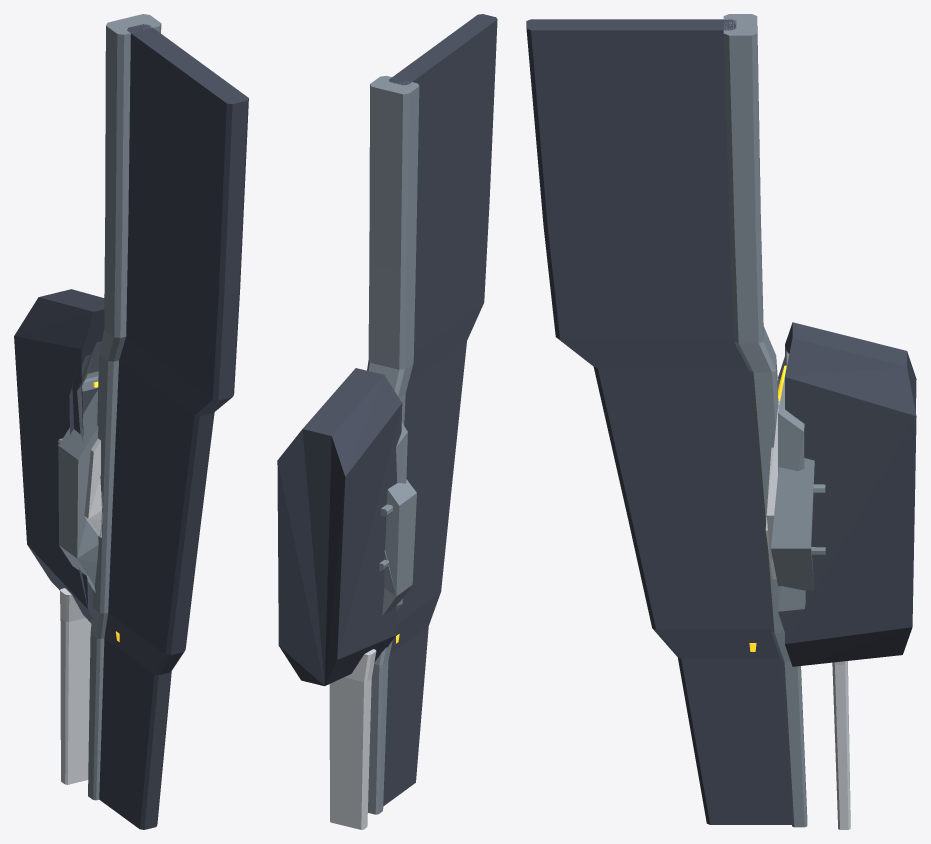
Rendered from BasicArmW_Left_Skel.glb.
3 renders of one model, left to right at view 1: azimuth 30°, elevation 25°; view 2: azimuth 150°, elevation 25°; view 3: azimuth 270°, elevation 25°, orthographic. The views are drawn at different scales.
Visible parts, largest first — view 1: BasicArmW_Left_Skel_part00, BasicArmW_Left_Skel_part01, BasicArmW_Left_Skel_part02; view 2: BasicArmW_Left_Skel_part00, BasicArmW_Left_Skel_part01, BasicArmW_Left_Skel_part02; view 3: BasicArmW_Left_Skel_part00, BasicArmW_Left_Skel_part01, BasicArmW_Left_Skel_part02.
Part boxes in pixels (left/top/right/bottom): BasicArmW_Left_Skel_part00: left=88, top=14, right=248, bottom=829; BasicArmW_Left_Skel_part01: left=14, top=289, right=104, bottom=623; BasicArmW_Left_Skel_part02: left=60, top=588, right=119, bottom=784; BasicArmW_Left_Skel_part00: left=367, top=14, right=497, bottom=814; BasicArmW_Left_Skel_part01: left=277, top=368, right=416, bottom=686; BasicArmW_Left_Skel_part02: left=329, top=634, right=399, bottom=829; BasicArmW_Left_Skel_part00: left=526, top=14, right=807, bottom=827; BasicArmW_Left_Skel_part01: left=765, top=322, right=916, bottom=666; BasicArmW_Left_Skel_part02: left=749, top=643, right=850, bottom=829.
Size of the model in its own units: 2.02 by 14.76 by 6.55.
